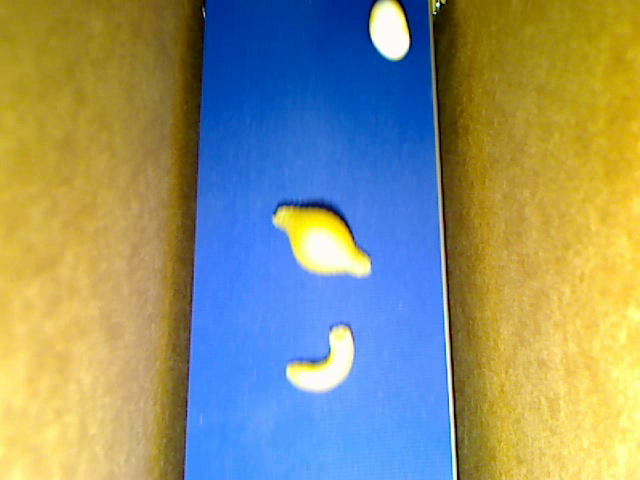elbow: (285, 322, 355, 394)
shell: (271, 204, 372, 279)
